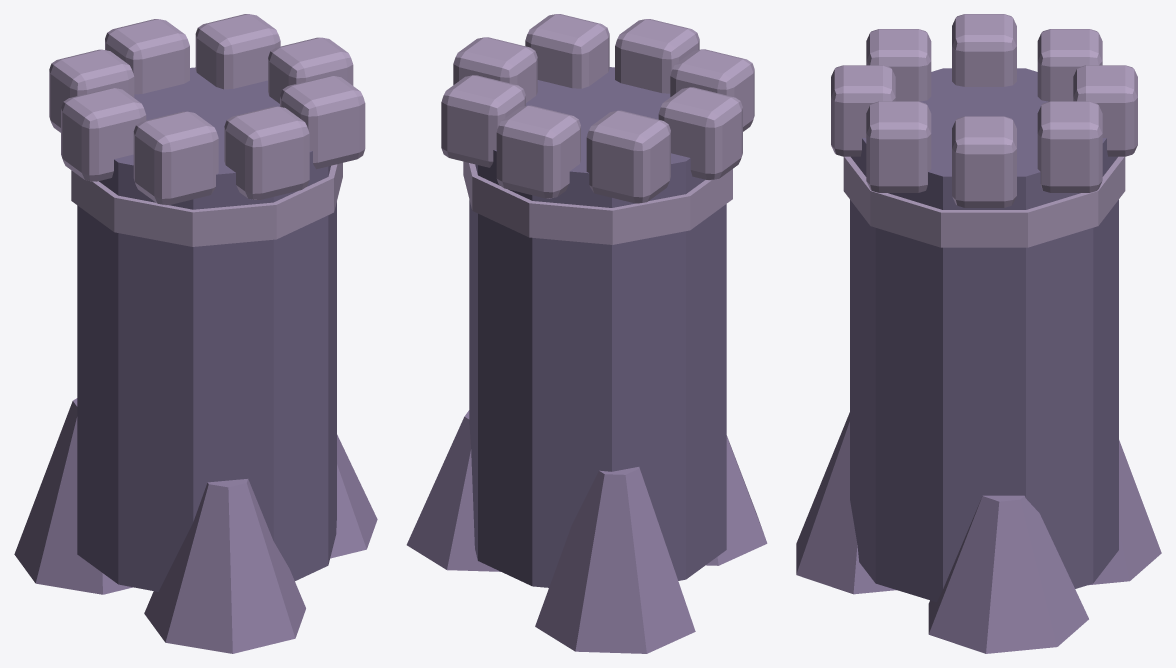
Rendered from ember_tower_c.glb.
3 renders of one model, left to right at view 1: azimuth 30°, elevation 25°; view 2: azimuth 150°, elevation 25°; view 3: azimuth 270°, elevation 25°, orthographic. The views are drawn at different scales.
Visible parts, largest first — view 1: TowerBody.002, BasaltShoulder.007, UpperBand.002, BasaltShoulder.008, Crenel_05.002, Crenel_04.002, Crenel_06.002, Crenel_03.002, Crenel_01.002, Crenel_00.002, Crenel_07.002, Crenel_02.002 (+1 smaller); view 2: TowerBody.002, BasaltShoulder.008, UpperBand.002, Crenel_07.002, Crenel_00.002, BasaltShoulder.006, Crenel_06.002, Crenel_01.002, Crenel_03.002, Crenel_04.002, Crenel_05.002, Crenel_02.002 (+1 smaller); view 3: TowerBody.002, BasaltShoulder.006, UpperBand.002, BasaltShoulder.007, Crenel_01.002, Crenel_03.002, Crenel_02.002, Crenel_06.002, Crenel_00.002, Crenel_04.002, BasaltShoulder.008, Crenel_07.002 (+1 smaller).
Boxes of the visible parts, x1,y1,x2,y2 form: TowerBody.002: [77, 67, 336, 591]; BasaltShoulder.007: [144, 479, 305, 653]; UpperBand.002: [71, 163, 342, 246]; BasaltShoulder.008: [14, 398, 132, 594]; Crenel_05.002: [133, 111, 218, 205]; Crenel_04.002: [224, 106, 309, 199]; Crenel_06.002: [61, 88, 146, 181]; Crenel_03.002: [280, 76, 365, 169]; Crenel_01.002: [195, 14, 280, 89]; Crenel_00.002: [105, 19, 189, 94]; Crenel_07.002: [49, 49, 134, 132]; Crenel_02.002: [268, 37, 353, 103]; TowerBody.002: [469, 67, 726, 587]; BasaltShoulder.008: [535, 467, 695, 653]; UpperBand.002: [463, 161, 732, 244]; Crenel_07.002: [586, 110, 670, 203]; Crenel_00.002: [496, 105, 580, 198]; BasaltShoulder.006: [406, 410, 500, 571]; Crenel_06.002: [658, 87, 742, 180]; Crenel_01.002: [441, 75, 525, 167]; Crenel_03.002: [525, 14, 609, 88]; Crenel_04.002: [615, 19, 699, 93]; Crenel_05.002: [670, 49, 754, 131]; Crenel_02.002: [453, 37, 537, 102]; TowerBody.002: [850, 68, 1118, 602]; BasaltShoulder.006: [928, 495, 1088, 653]; UpperBand.002: [843, 156, 1125, 247]; BasaltShoulder.007: [796, 412, 896, 594]; Crenel_01.002: [1037, 101, 1102, 192]; Crenel_03.002: [866, 101, 931, 192]; Crenel_02.002: [952, 116, 1016, 207]; Crenel_06.002: [952, 14, 1016, 86]; Crenel_00.002: [1073, 65, 1137, 156]; Crenel_04.002: [831, 65, 895, 156]; BasaltShoulder.008: [1088, 440, 1161, 585]; Crenel_07.002: [1037, 29, 1102, 101].
Size of the model in its own units: 5.09 by 7.98 by 5.19.
